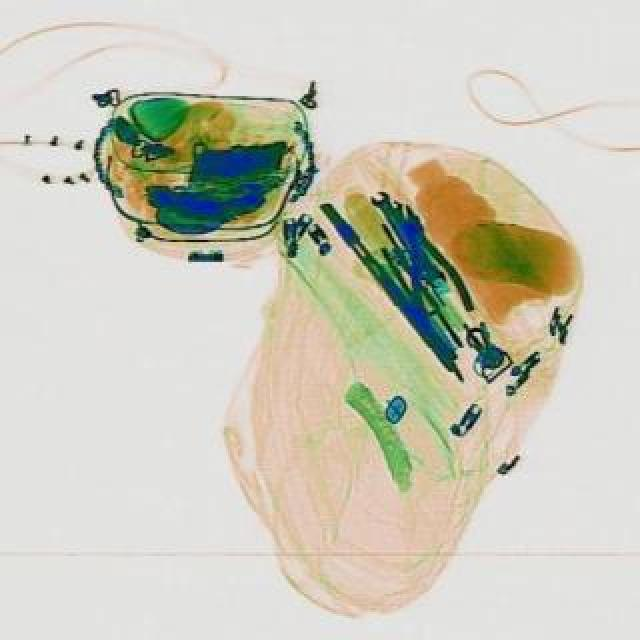scissors: (362, 188, 448, 298)
wrench: (376, 200, 472, 328)
